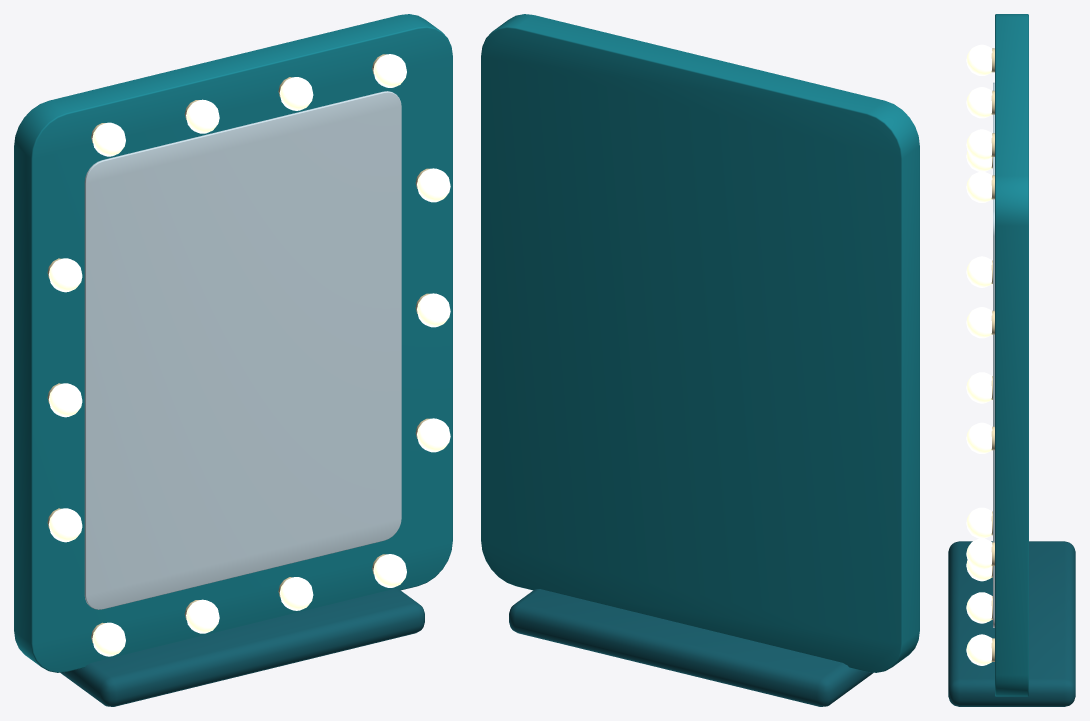
Rendered from espelho_camarim.glb.
3 renders of one model, left to right at view 1: azimuth 30°, elevation 25°; view 2: azimuth 150°, elevation 25°; view 3: azimuth 270°, elevation 25°, orthographic. The views are drawn at different scales.
Parts seen in each view (by area): view 1: espelho_camarim; view 2: espelho_camarim; view 3: espelho_camarim.
Part boxes in pixels (bbox=[...]): espelho_camarim: bbox=[14, 14, 452, 706]; espelho_camarim: bbox=[481, 14, 919, 706]; espelho_camarim: bbox=[948, 14, 1075, 706].
Bounding box in the file's own units: 0.6 × 0.795 × 0.17.
Materials: 3 (1 with a texture image).
